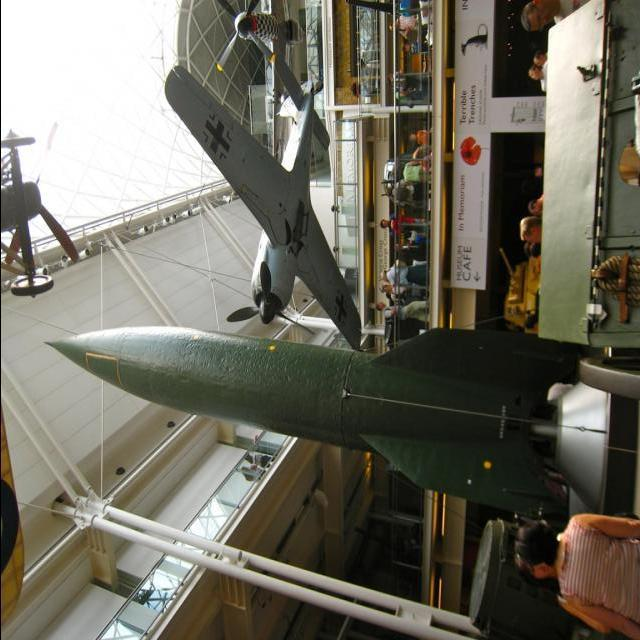missile: (41, 322, 618, 512)
